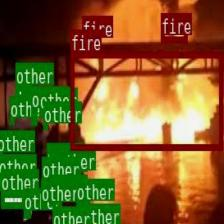fire: (70, 51, 222, 149), (160, 13, 187, 42), (82, 15, 101, 41)
